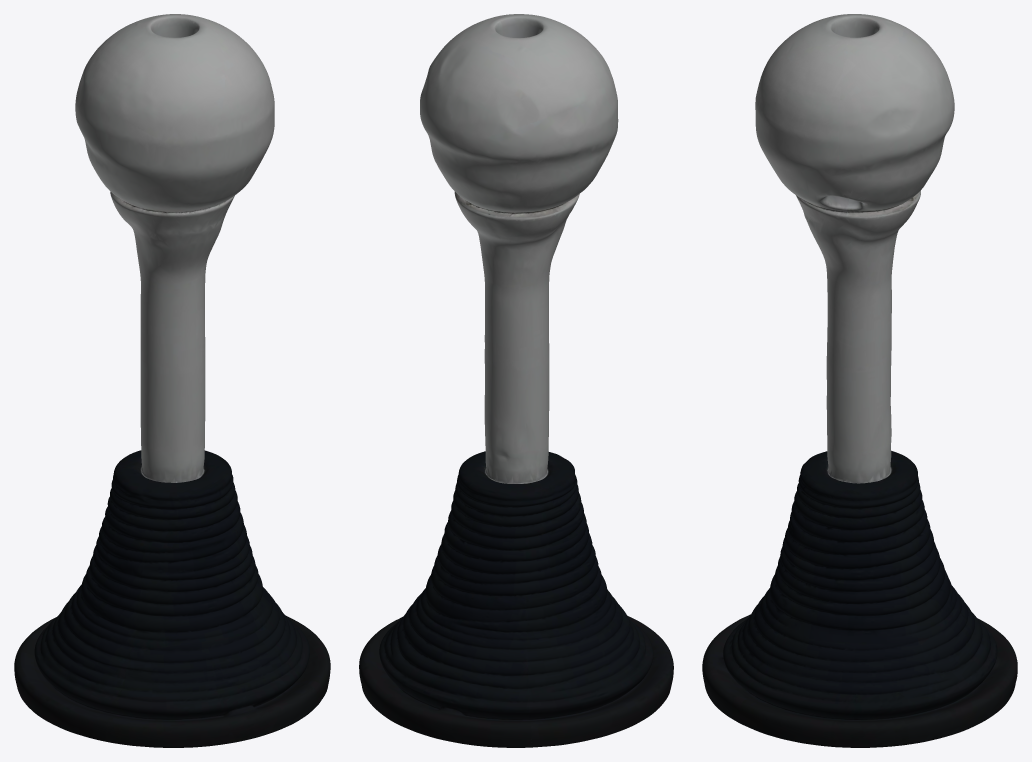
The model's file is shifter.glb.
3 renders of one model, left to right at view 1: azimuth 30°, elevation 25°; view 2: azimuth 150°, elevation 25°; view 3: azimuth 270°, elevation 25°, orthographic.
Parts seen in each view (by area): view 1: tripo_node_f7edef41-62e2-457e-b279-3ffbbe9d6281; view 2: tripo_node_f7edef41-62e2-457e-b279-3ffbbe9d6281; view 3: tripo_node_f7edef41-62e2-457e-b279-3ffbbe9d6281.
Part boxes in pixels (bbox=[...]): tripo_node_f7edef41-62e2-457e-b279-3ffbbe9d6281: bbox=[14, 14, 330, 747]; tripo_node_f7edef41-62e2-457e-b279-3ffbbe9d6281: bbox=[359, 14, 673, 747]; tripo_node_f7edef41-62e2-457e-b279-3ffbbe9d6281: bbox=[702, 14, 1017, 747].
Size of the model in its own units: 0.437 by 1 by 0.4361.
Materials: 1 (1 with a texture image).
